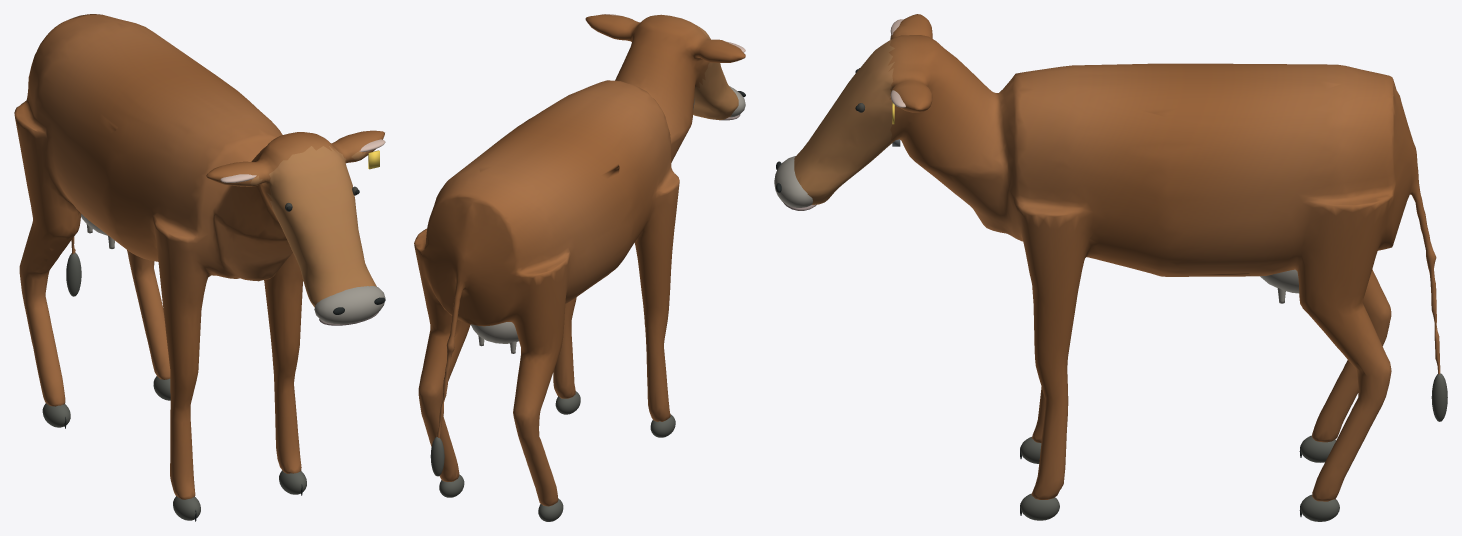
The model's file is cow_brown.glb.
3 renders of one model, left to right at view 1: azimuth 30°, elevation 25°; view 2: azimuth 150°, elevation 25°; view 3: azimuth 270°, elevation 25°, orthographic. The views are drawn at different scales.
Visible parts, largest first — view 1: continuous_skin_0, muzzle_1, tail_switch_20, hoof_9, hoof_7, hoof_15; view 2: continuous_skin_0, udder_21, tail_switch_20, hoof_7, hoof_15, hoof_9, hoof_17; view 3: continuous_skin_0, muzzle_1, hoof_15, hoof_17.
Boxes of the visible parts, x1=… form: continuous_skin_0: x1=14, y1=14, x2=384, y2=499; muzzle_1: x1=314, y1=286, x2=385, y2=324; tail_switch_20: x1=66, y1=252, x2=81, y2=296; hoof_9: x1=42, y1=403, x2=70, y2=427; hoof_7: x1=173, y1=496, x2=200, y2=520; hoof_15: x1=279, y1=470, x2=306, y2=494; continuous_skin_0: x1=414, y1=14, x2=745, y2=506; udder_21: x1=470, y1=322, x2=518, y2=343; tail_switch_20: x1=430, y1=437, x2=444, y2=476; hoof_7: x1=650, y1=414, x2=675, y2=437; hoof_15: x1=555, y1=391, x2=580, y2=414; hoof_9: x1=538, y1=498, x2=563, y2=521; hoof_17: x1=439, y1=474, x2=464, y2=497; continuous_skin_0: x1=794, y1=14, x2=1440, y2=501; muzzle_1: x1=774, y1=156, x2=812, y2=207; hoof_15: x1=1020, y1=493, x2=1059, y2=520; hoof_17: x1=1300, y1=494, x2=1339, y2=521.
Size of the model in its own units: 0.7567 by 1.66 by 2.26.
Materials: 9 (1 with a texture image).
